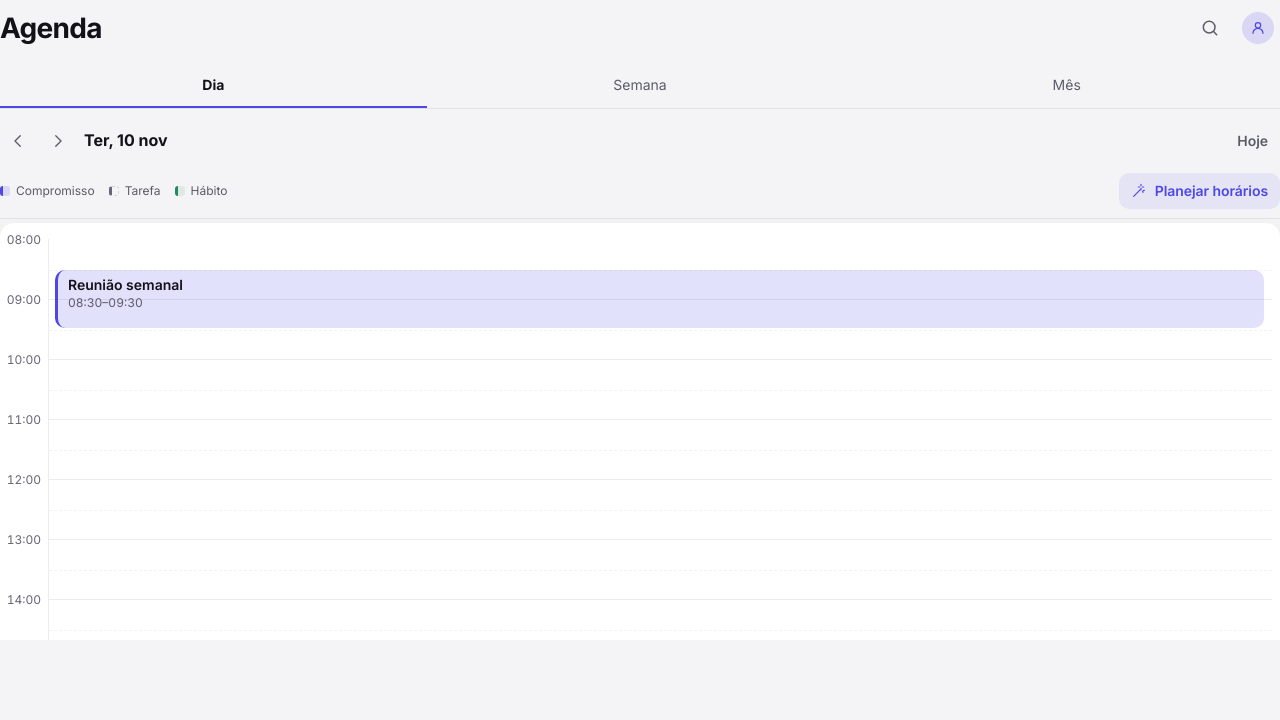
Test: salva o valor nativo visível 08:00 quando o rascunho ainda contém 08:30 (duração alterada: false)
Later steps or results of the test are not shown.
Click the button with class "block". click: x=126, y=284
box: [55,270,1264,328]
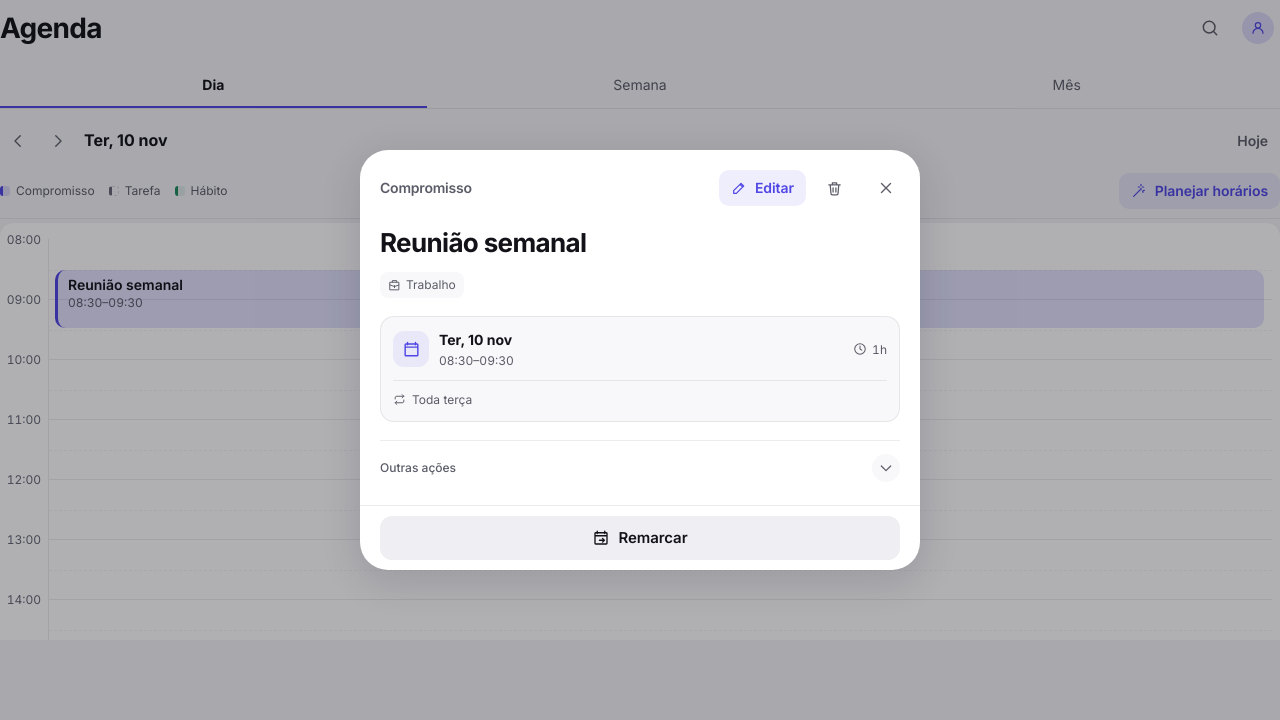
Click the button "Editar". click: x=762, y=188
box: [719,170,806,206]
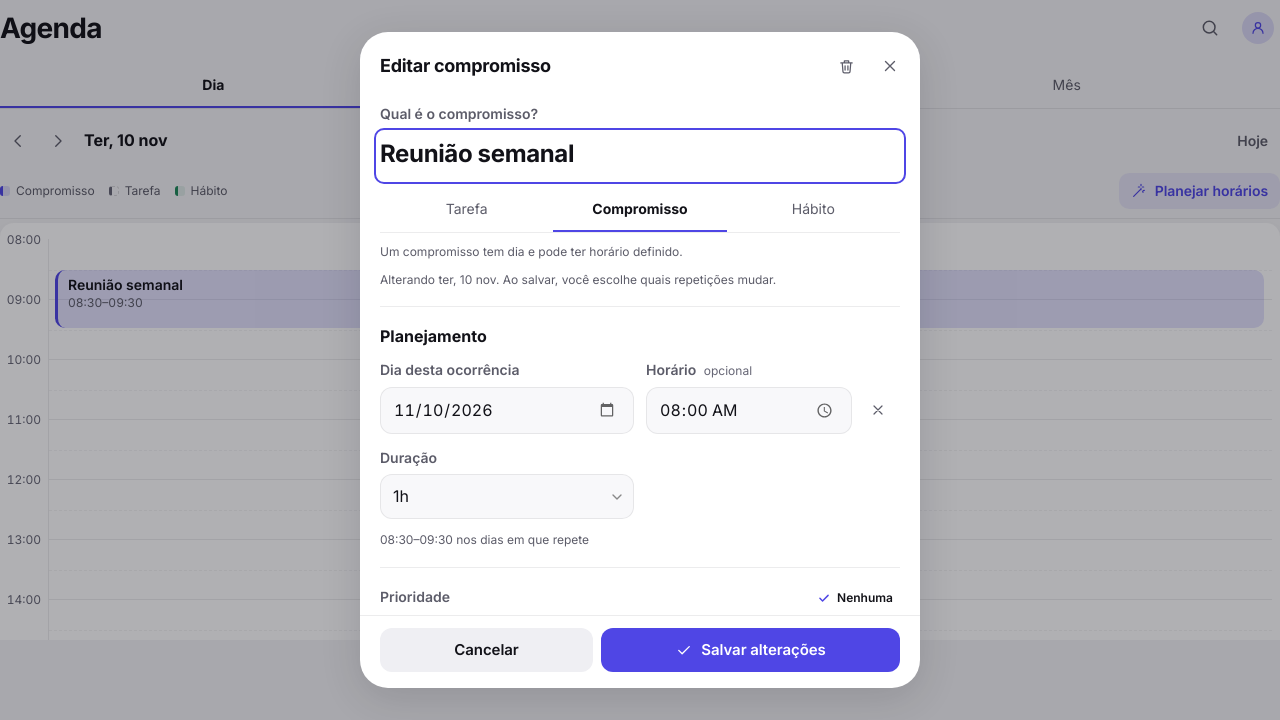
Expected: the time field named "Horário de início" holds "08:00", [646,387,852,434]
